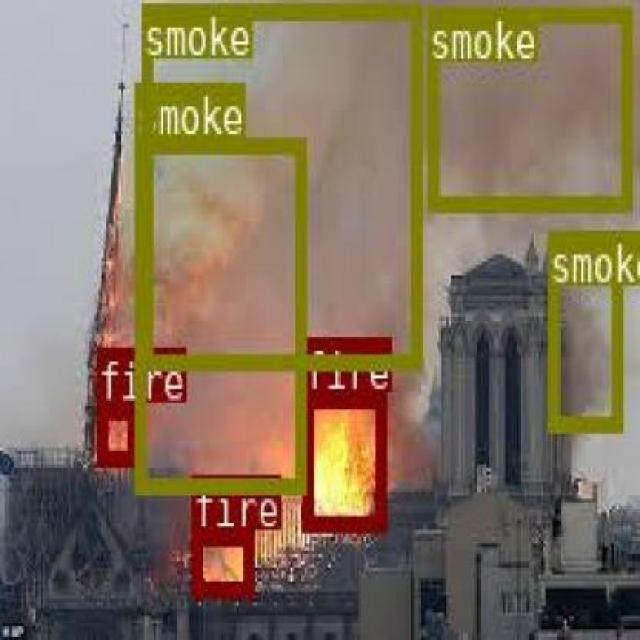Fire: (300, 392, 385, 530), (190, 526, 252, 592), (95, 402, 136, 462)
Smoke: (142, 1, 420, 368), (134, 137, 303, 490), (425, 4, 630, 210), (546, 228, 620, 430), (397, 394, 433, 486)
